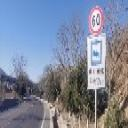speed_limit_60: (89, 6, 103, 35)
